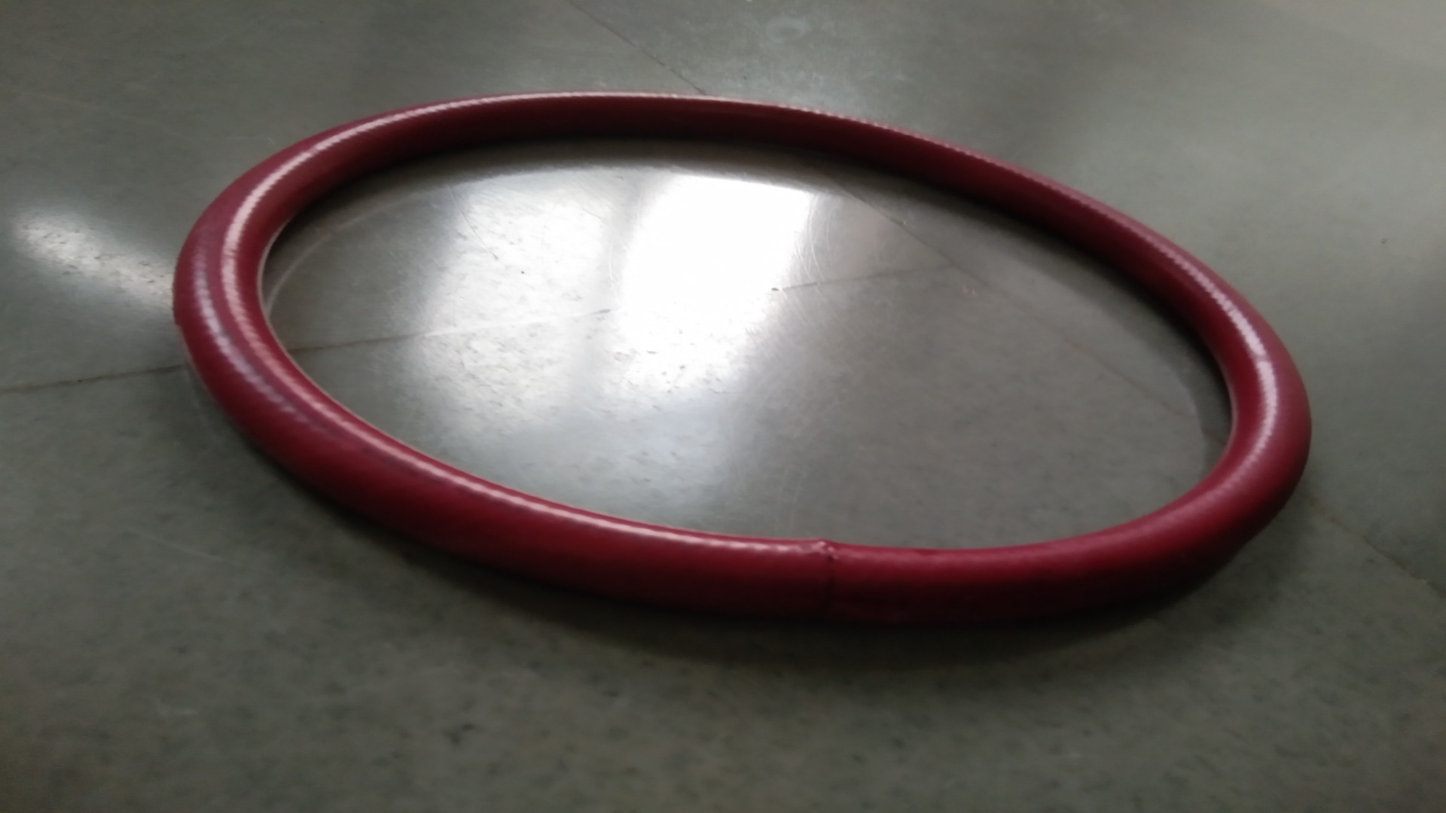Red ring: (177, 93, 1310, 616)
